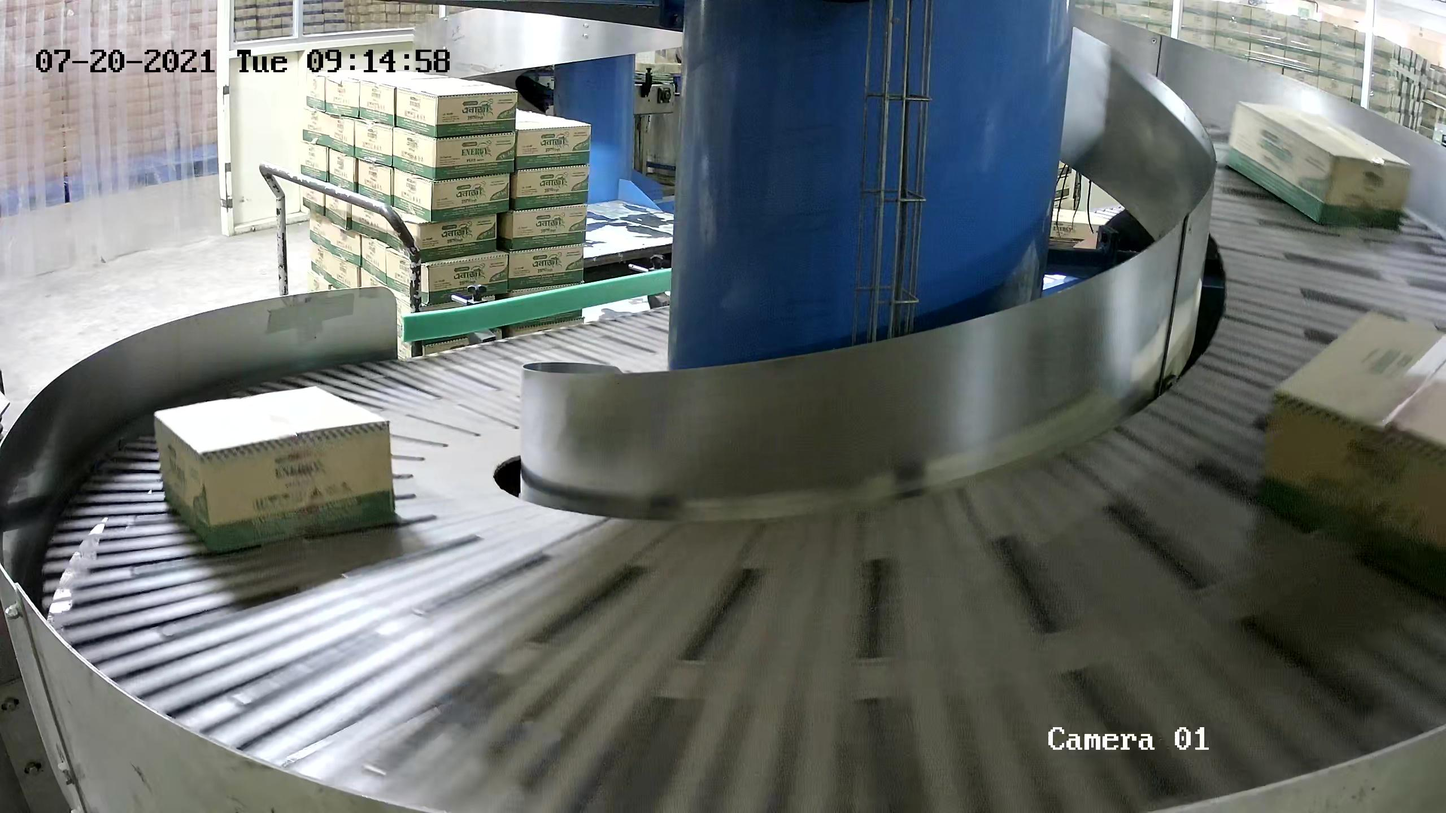Box: (1261, 306, 1446, 586), (153, 384, 398, 555), (1222, 99, 1413, 227)
